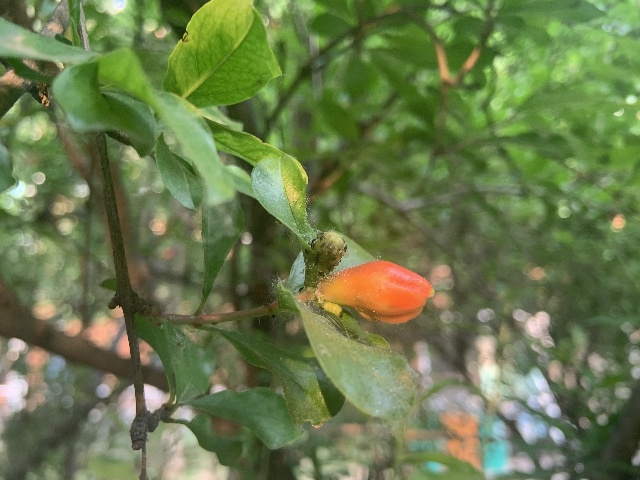bud: (321, 260, 431, 323)
